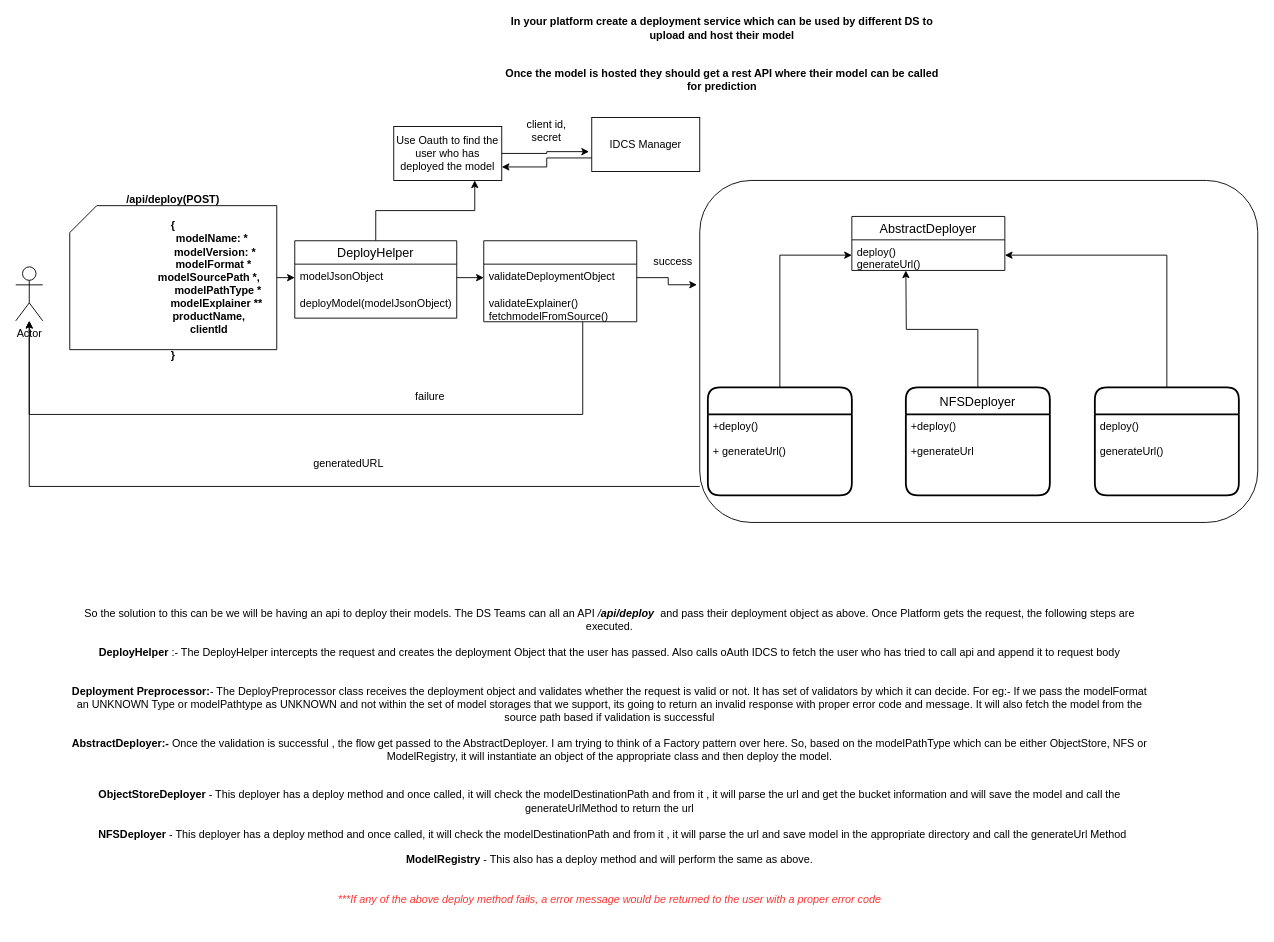
Some shapes in this 1274 by 942 pixel diagram are drawn without their labels. The box of each missing label's shape, as (x1, y1, x2, y2) in pixels:
DeploymentPreprocessor: (483, 240, 637, 322)
ModelRegistryDeployer: (1094, 386, 1239, 496)
ObjectStoreDeployer: (706, 386, 852, 496)
